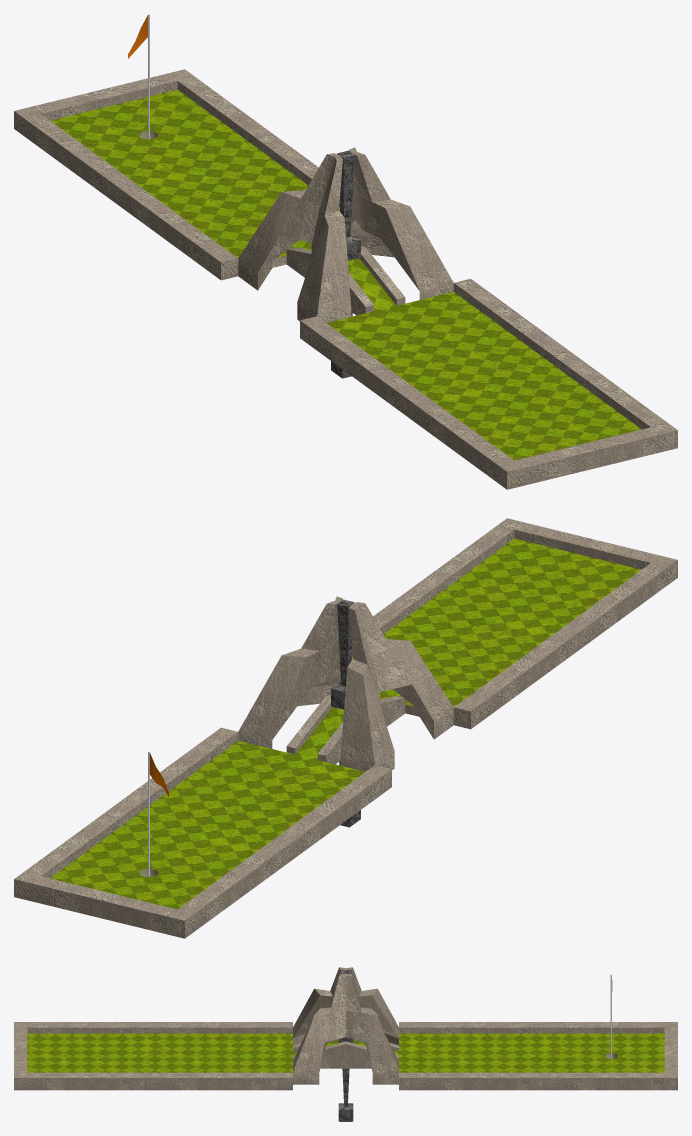
File: course4_hole17.fbx
3 renders of one model, top to bottom at view 1: azimuth 30°, elevation 25°; view 2: azimuth 150°, elevation 25°; view 3: azimuth 270°, elevation 25°, orthographic. The views are drawn at different scales.
Parts seen in each view (by area): view 1: course4_hole17_walls, course4_hole17_ground, course4_hole17_pendulum; view 2: course4_hole17_walls, course4_hole17_ground, course4_hole17_pendulum; view 3: course4_hole17_walls, course4_hole17_ground, course4_hole17_pendulum_origin.
Part boxes in pixels (x1,y1,x2,y2): course4_hole17_walls: (14,69,677,489); course4_hole17_ground: (50,89,641,460); course4_hole17_pendulum: (337,150,360,260); course4_hole17_walls: (14,518,677,938); course4_hole17_ground: (50,538,641,909); course4_hole17_pendulum: (331,599,354,709); course4_hole17_walls: (14,967,677,1090); course4_hole17_ground: (27,1033,664,1072); course4_hole17_pendulum_origin: (338,1068,353,1121).
Size of the model in its own units: 1 by 1.23 by 5.
